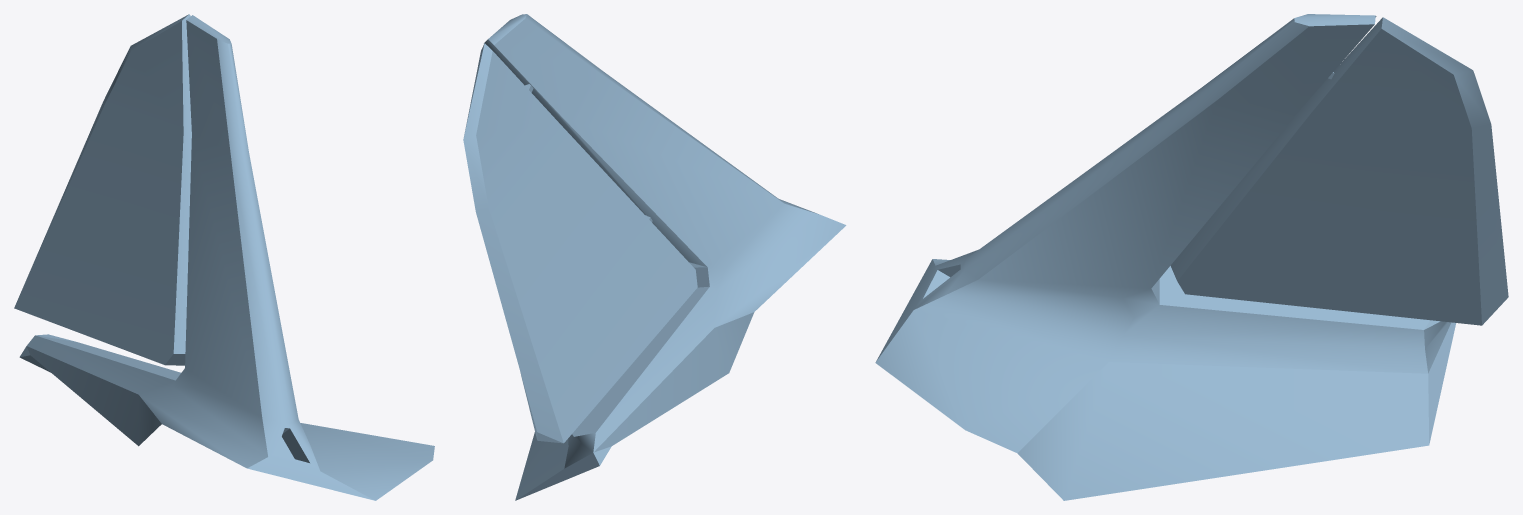
Rendered from keel up L.FBX.
3 renders of one model, left to right at view 1: azimuth 30°, elevation 25°; view 2: azimuth 150°, elevation 25°; view 3: azimuth 270°, elevation 25°, orthographic. The views are drawn at different scales.
Parts seen in each view (by area): view 1: Group30; view 2: Group30; view 3: Group30.
Part boxes in pixels (bbox=[...]): Group30: bbox=[14, 14, 434, 500]; Group30: bbox=[463, 14, 846, 500]; Group30: bbox=[875, 14, 1508, 500].
Bounding box in the file's own units: 0.0347 × 0.0735 × 0.0585.
